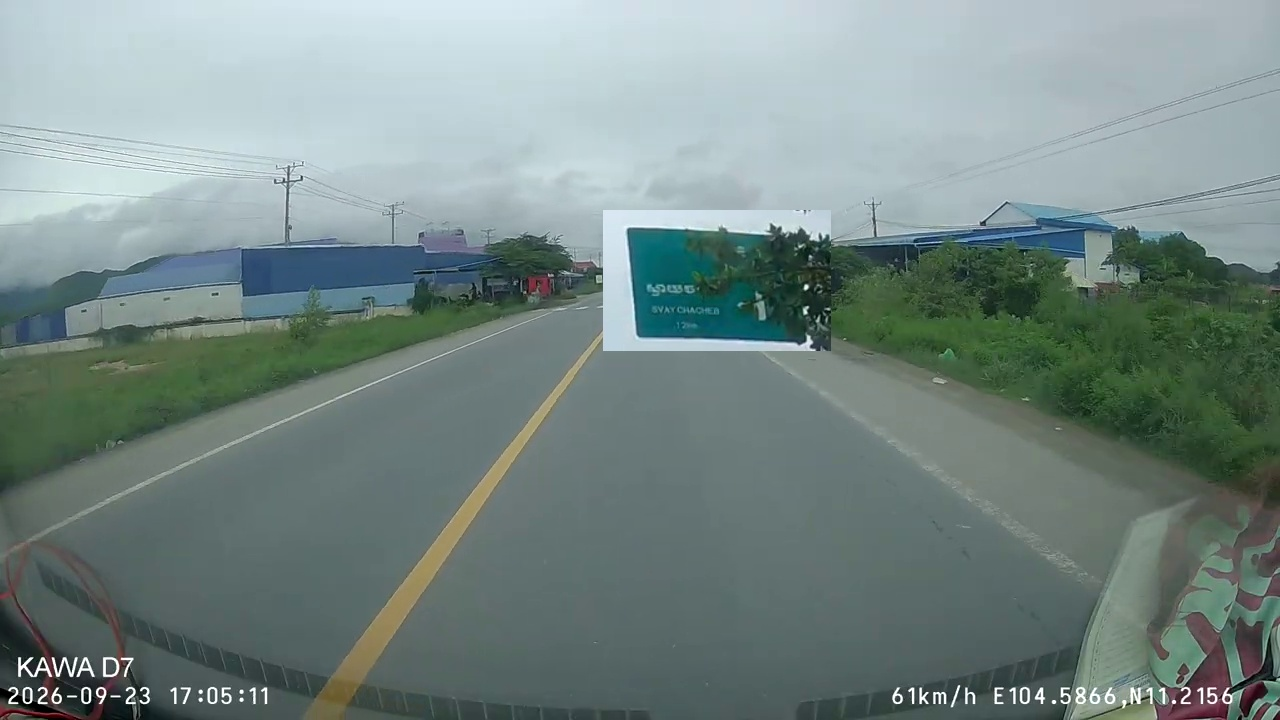direction_sign: (603, 210, 831, 351)
